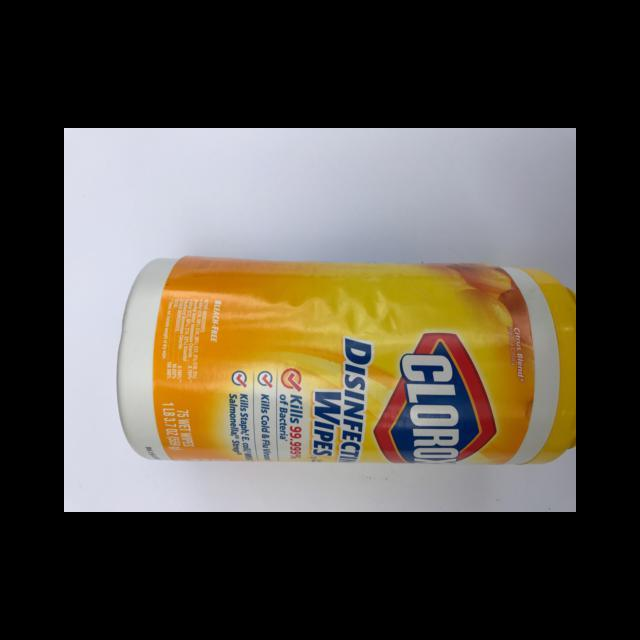plastic: (116, 256, 575, 464)
